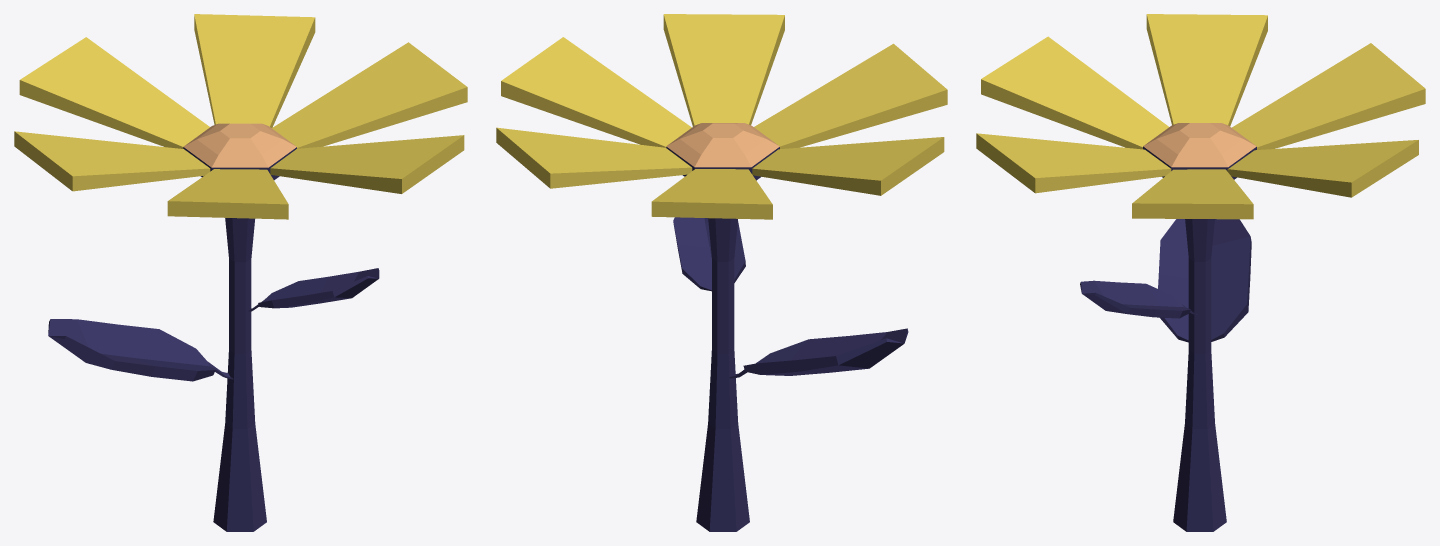
The model's file is flower8.fbx.
The picture shows the model from 3 angles, left to right: view 1: azimuth 30°, elevation 25°; view 2: azimuth 150°, elevation 25°; view 3: azimuth 270°, elevation 25°; orthographic projection.
Visible parts, largest first — view 1: Cube, Circle; view 2: Cube, Circle; view 3: Cube, Circle.
Boxes of the visible parts, <box> form: Cube: <box>14,14,467,219</box>; Circle: <box>48,123,379,531</box>; Cube: <box>496,14,947,219</box>; Circle: <box>666,123,908,531</box>; Cube: <box>976,14,1425,219</box>; Circle: <box>1080,123,1256,531</box>.
Size of the model in its own units: 991 by 1004 by 990.
